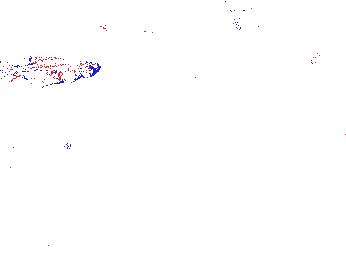glassfish: (81, 8, 205, 75)
redtail glassfish: (1, 57, 103, 86), (308, 49, 333, 78)
